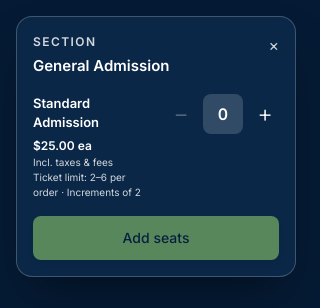
Test: SeatmapTooltip GA stepper › steps an offer by min, max, and multipleOf and disables +/- at the bounds
Check: the button named "decrease quantity" is disabled, box [167,94,195,134]
Check: the text named "ticket quantity" reads "0", box [218,104,228,124]
Click the button named "increase quantity": {"x": 265, "y": 114} [251,94,279,134]
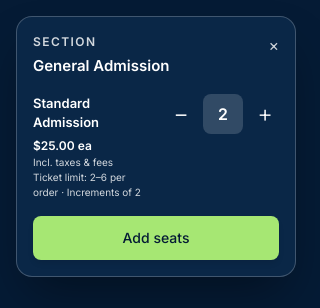
Check: the text named "ticket quantity" reads "2", box [218,104,228,124]
Click the button named "increase quantity": {"x": 265, "y": 114} [251,94,279,134]
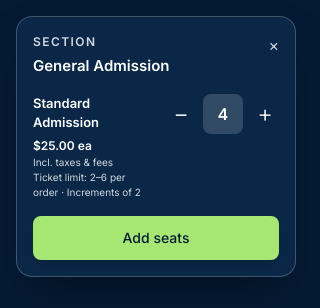
Check: the text named "ticket quantity" reads "4", box [218,104,228,124]
Click the button named "increase quantity": {"x": 265, "y": 114} [251,94,279,134]
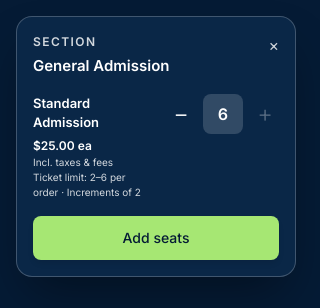
Check: the text named "ticket quantity" reads "6", box [218,104,228,124]
Check: the button named "increase quantity" is disabled, box [251,94,279,134]
Click the button named "decrease quantity": {"x": 181, "y": 114} [167,94,195,134]
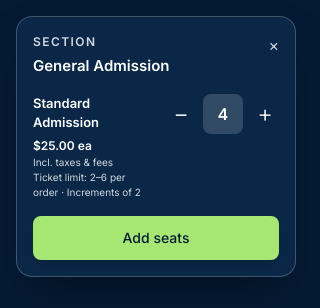
Check: the text named "ticket quantity" reads "4", box [218,104,228,124]
Click the button named "decrease quantity": {"x": 181, "y": 114} [167,94,195,134]
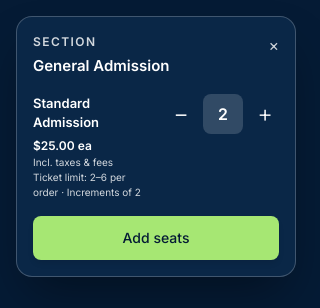
Check: the text named "ticket quantity" reads "2", box [218,104,228,124]
Click the button named "decrease quantity": {"x": 181, "y": 114} [167,94,195,134]
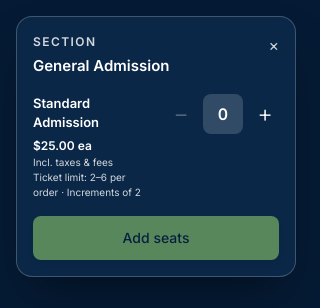
Check: the text "Ticket limit: 2–6 per order · Increments of 2" is shown, box [33,170,151,200]
Check: the text named "ticket quantity" reads "0", box [218,104,228,124]
